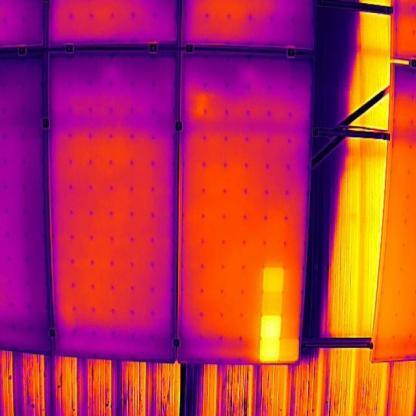anomaly: (256, 262, 302, 366)
